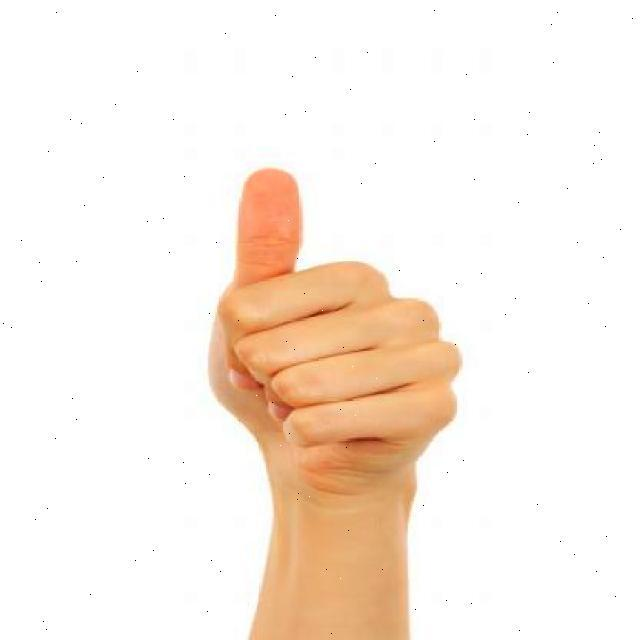no_apron: (182, 118, 466, 500)
